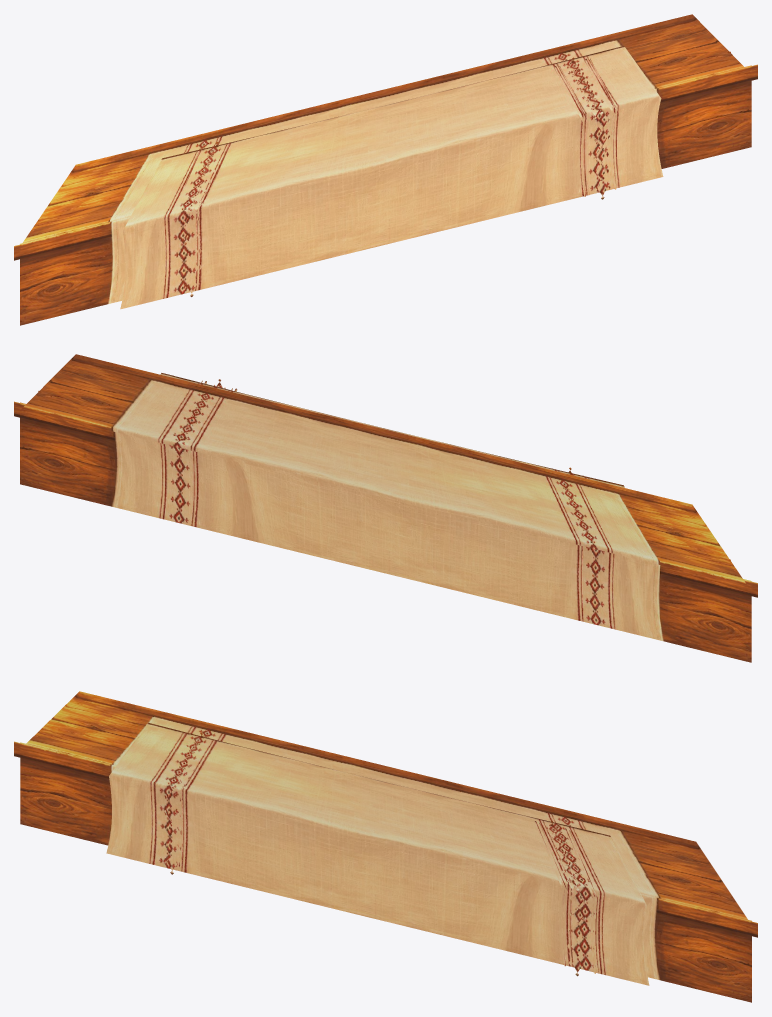
Rendered from masa.glb.
The picture shows the model from 3 angles, top to bottom: view 1: azimuth 30°, elevation 25°; view 2: azimuth 150°, elevation 25°; view 3: azimuth 330°, elevation 25°; orthographic projection.
Visible parts, largest first — view 1: Embroidered linen tablecloth.001, Table back and plank top.001; view 2: Table back and plank top.001, Embroidered linen tablecloth.001; view 3: Embroidered linen tablecloth.001, Table back and plank top.001.
Part boxes in pixels (bbox=[...]): Embroidered linen tablecloth.001: bbox=[120, 46, 663, 309]; Table back and plank top.001: bbox=[14, 14, 757, 325]; Table back and plank top.001: bbox=[14, 354, 757, 662]; Embroidered linen tablecloth.001: bbox=[160, 373, 624, 487]; Embroidered linen tablecloth.001: bbox=[106, 722, 649, 985]; Table back and plank top.001: bbox=[14, 691, 757, 1002].
Size of the model in its own units: 12.18 by 2.34 by 0.4165.
1 material, 1 textured.
